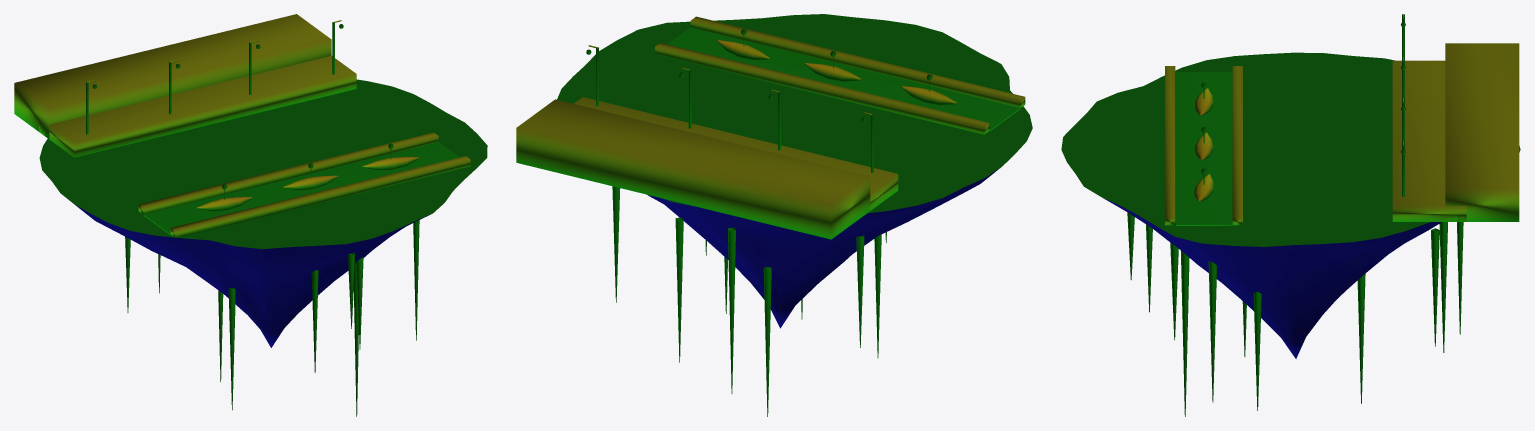
Rendered from memory_terrace.glb.
3 renders of one model, left to right at view 1: azimuth 30°, elevation 25°; view 2: azimuth 150°, elevation 25°; view 3: azimuth 270°, elevation 25°, orthographic. The views are drawn at different scales.
Parts seen in each view (by area): view 1: memory_terrace; view 2: memory_terrace; view 3: memory_terrace.
Boxes of the visible parts, <box> form: memory_terrace: <box>14,14,487,416</box>; memory_terrace: <box>516,14,1032,416</box>; memory_terrace: <box>1061,14,1520,416</box>.
Size of what is drawn, in the model's own units: 12.23 by 9.72 by 12.22.
